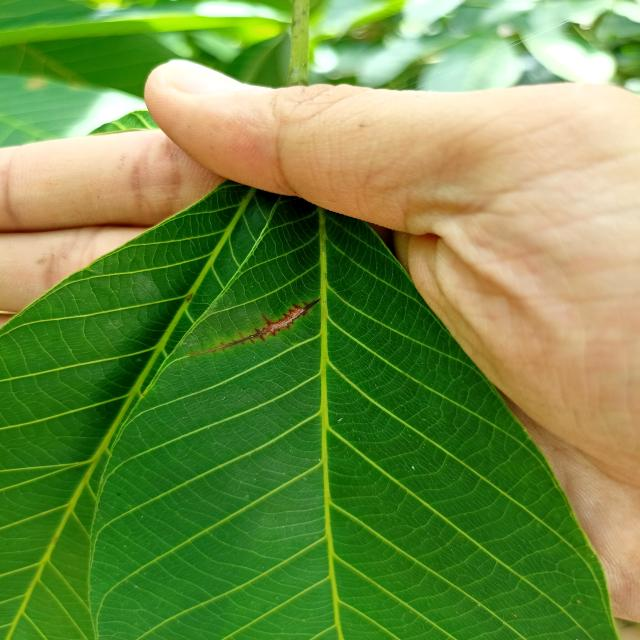Corynespora: (190, 298, 319, 356)
